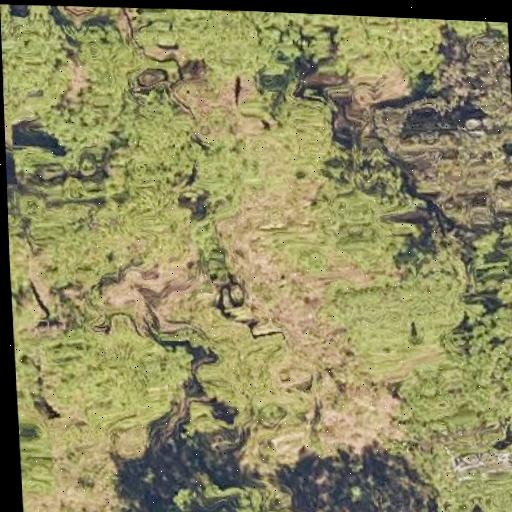tree-top: (7, 126, 201, 291), (326, 244, 472, 377), (45, 309, 190, 437), (384, 320, 512, 443), (131, 6, 303, 83), (306, 155, 417, 271), (395, 120, 512, 218), (185, 323, 298, 423), (303, 13, 452, 80), (0, 3, 70, 120), (261, 84, 344, 181), (68, 12, 146, 109), (466, 193, 512, 348), (416, 439, 512, 512), (185, 132, 265, 218), (159, 474, 328, 512), (448, 32, 512, 126), (18, 412, 54, 499), (440, 20, 508, 47)
